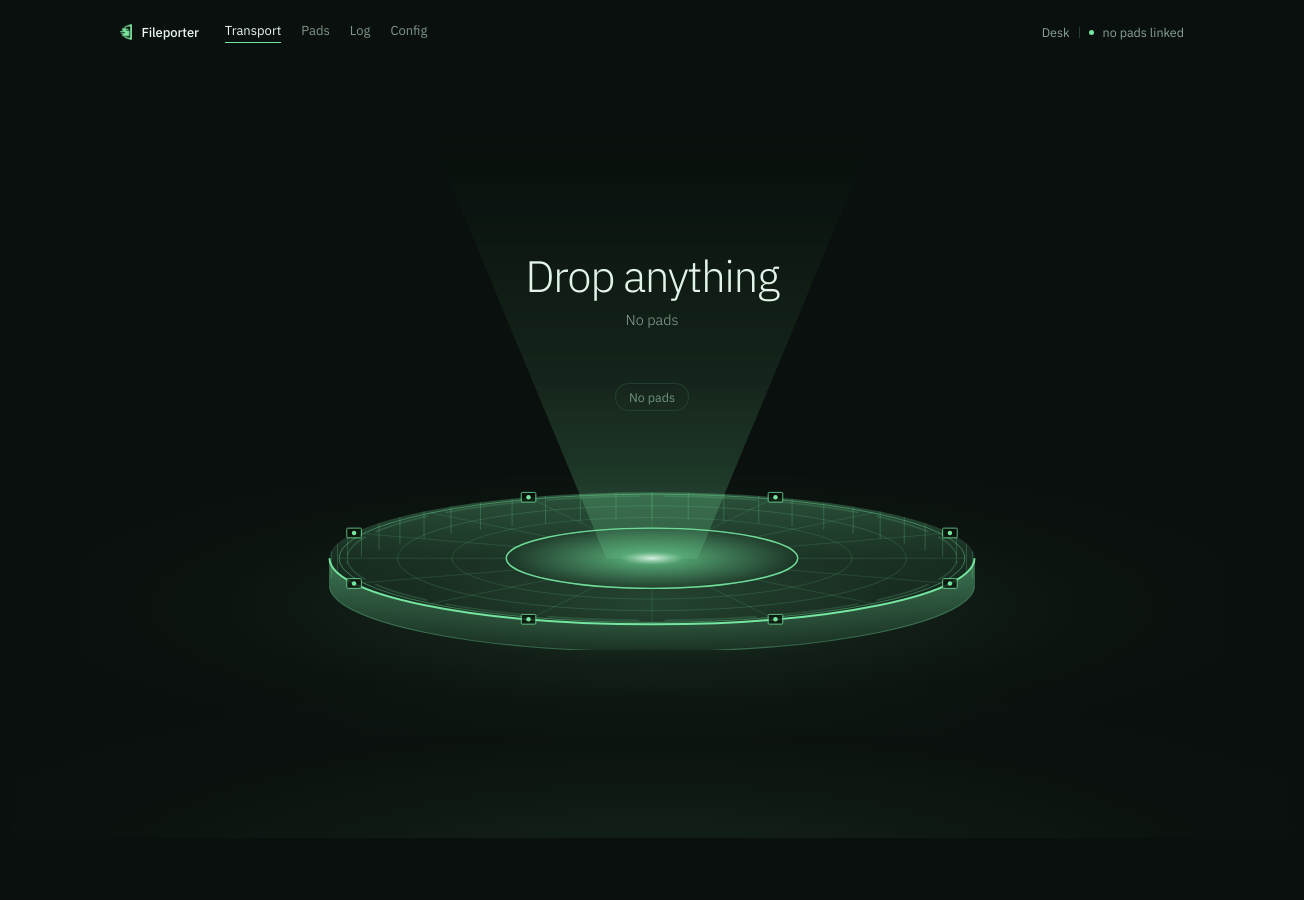
Test: navigates the browse menu with arrows and restores focus without opening a picker
Click the button named "Send files or folders".
click(652, 451)  # box [12,64,1292,838]
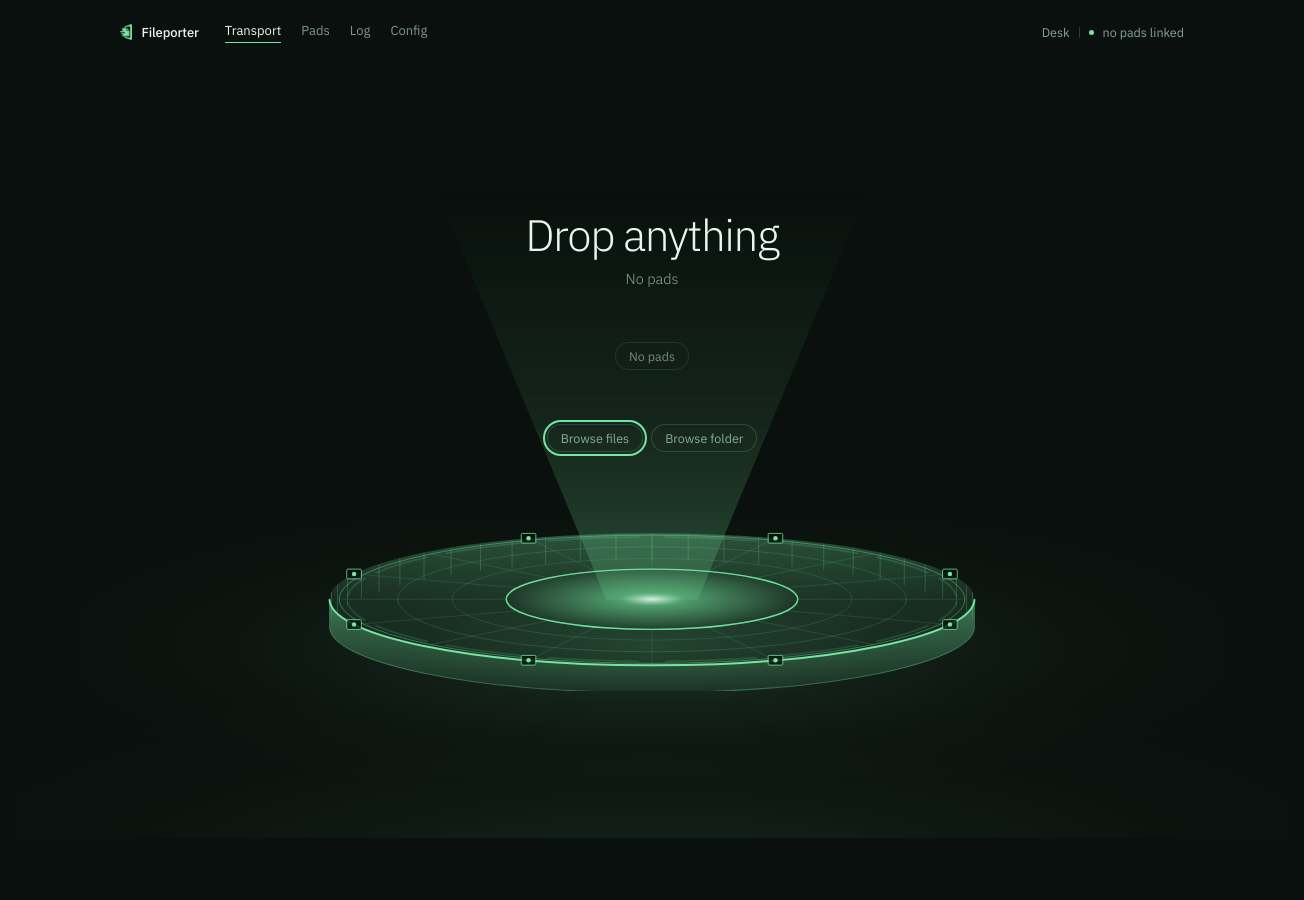
Press ArrowUp in the menu item "Browse files", box [547,424,643,452]
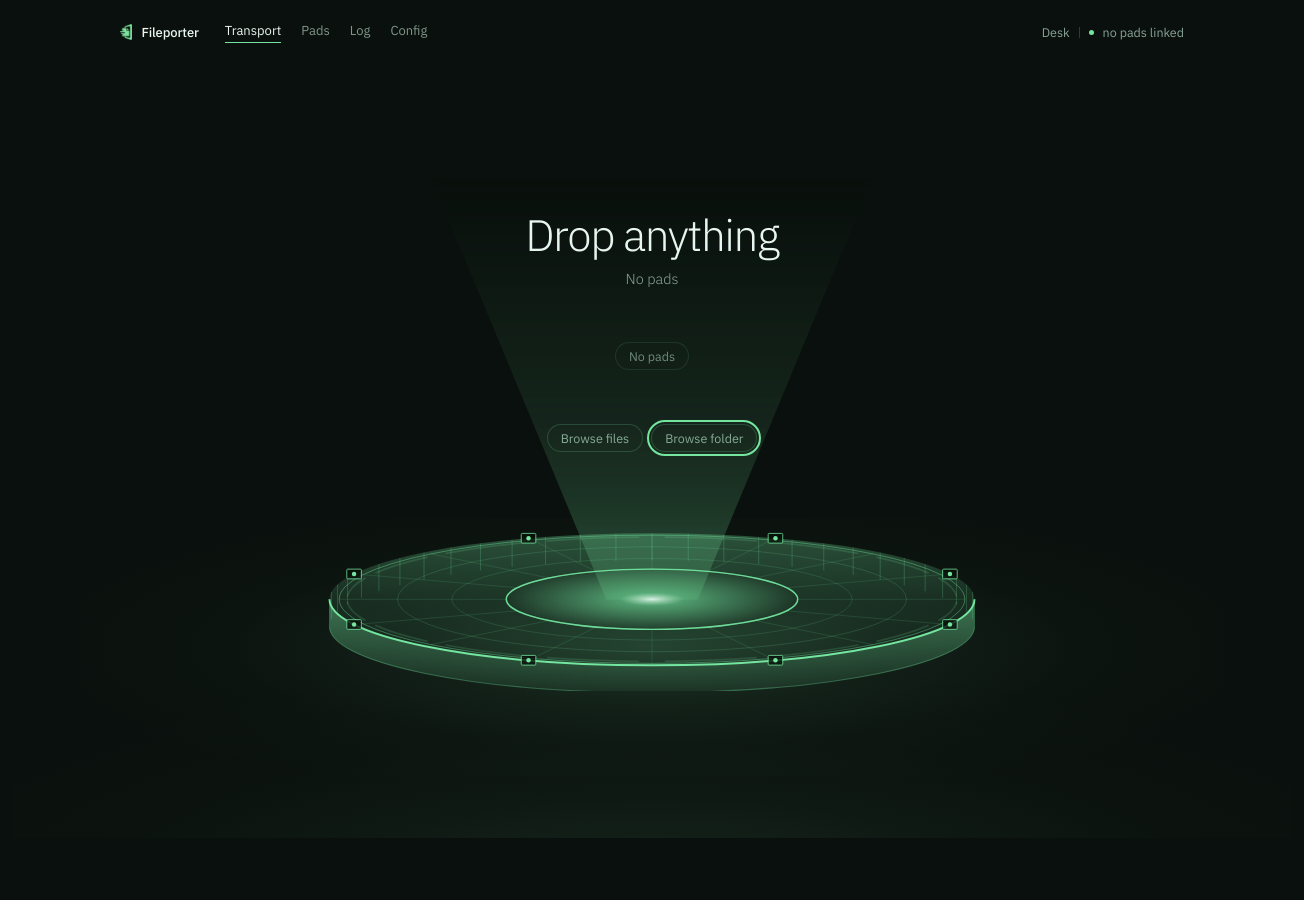
Press ArrowDown in the menu item "Browse folder", box [651,424,757,452]
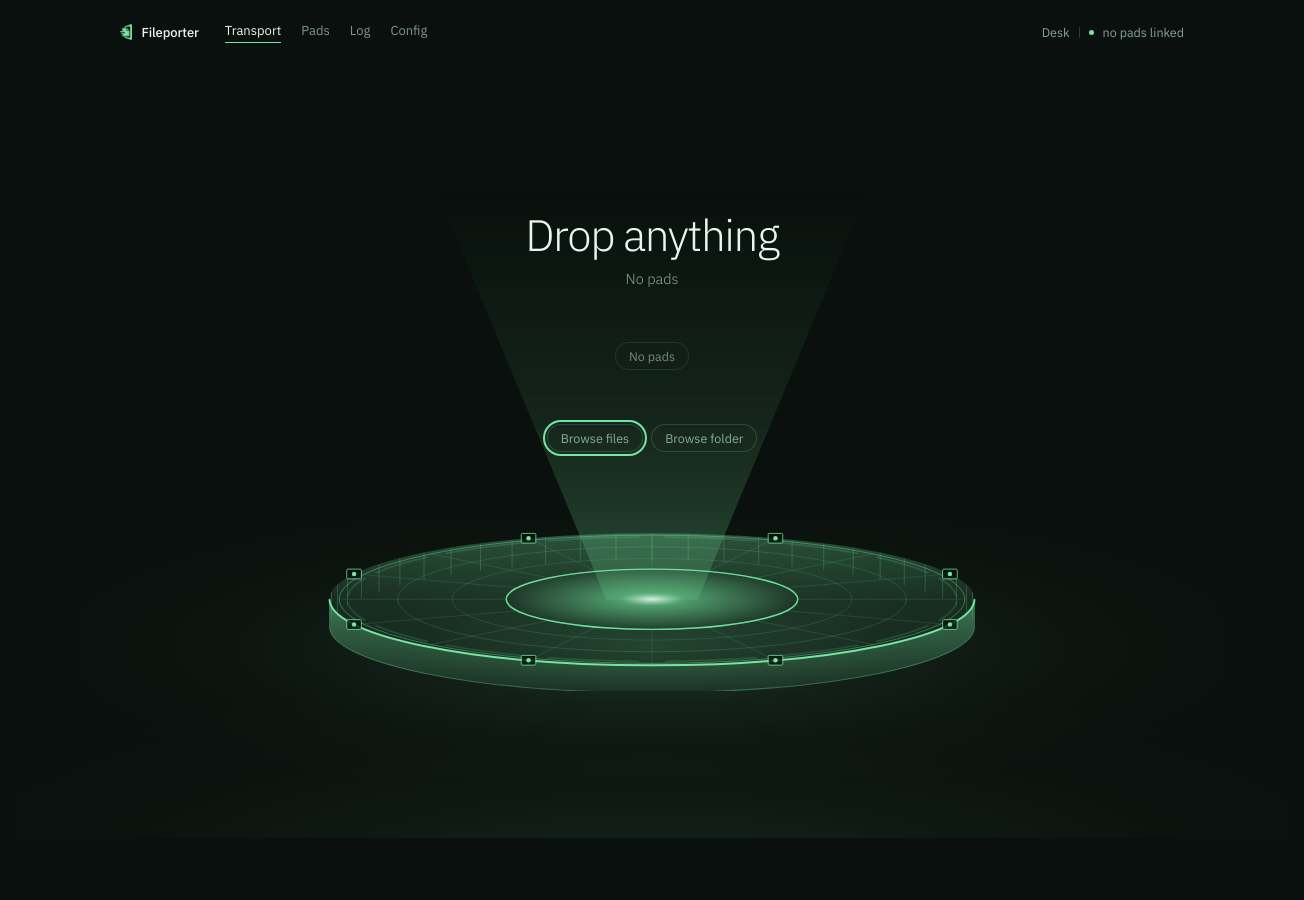
Press End in the menu item "Browse files", box [547,424,643,452]
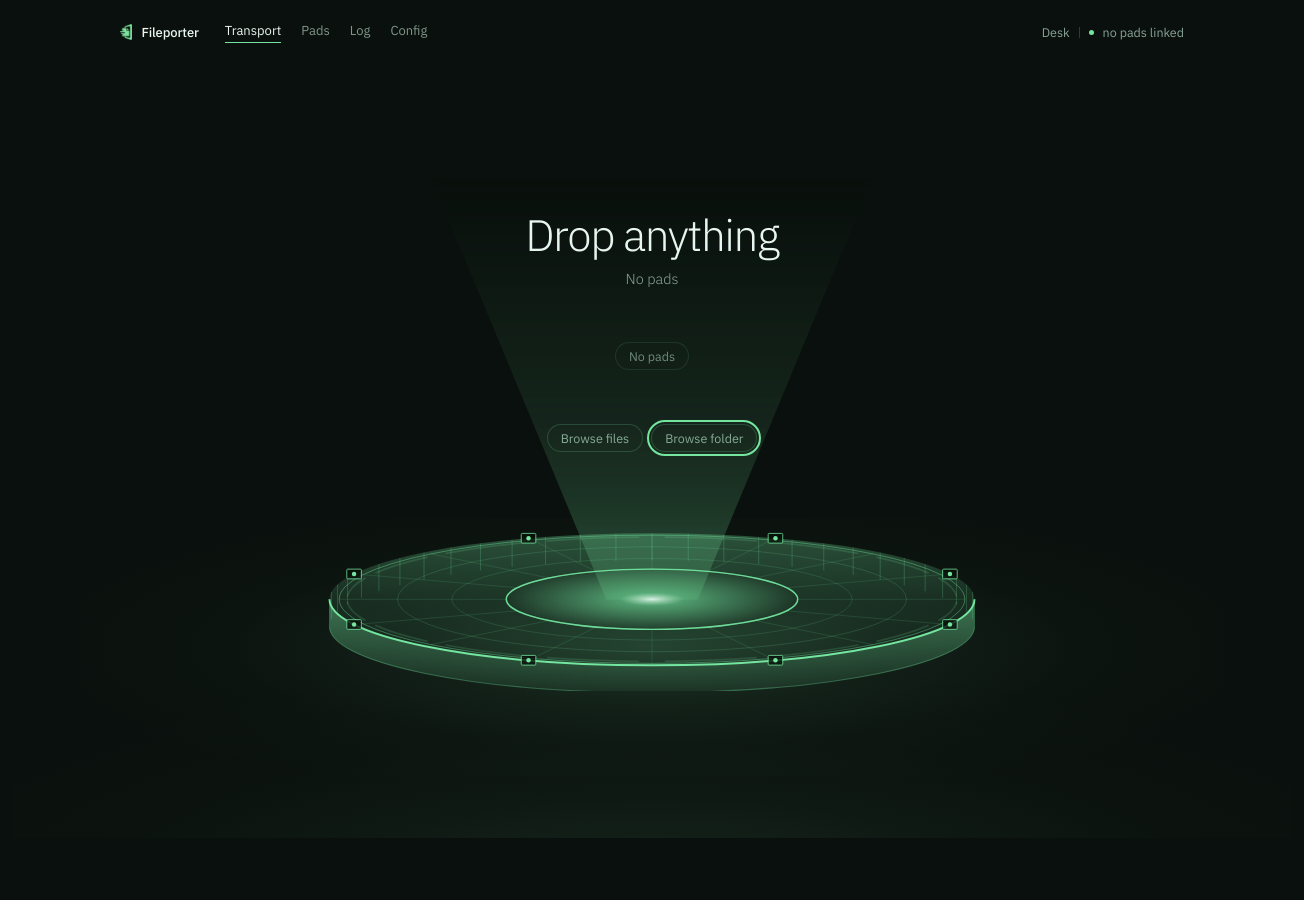
Press Home in the menu item "Browse folder", box [651,424,757,452]
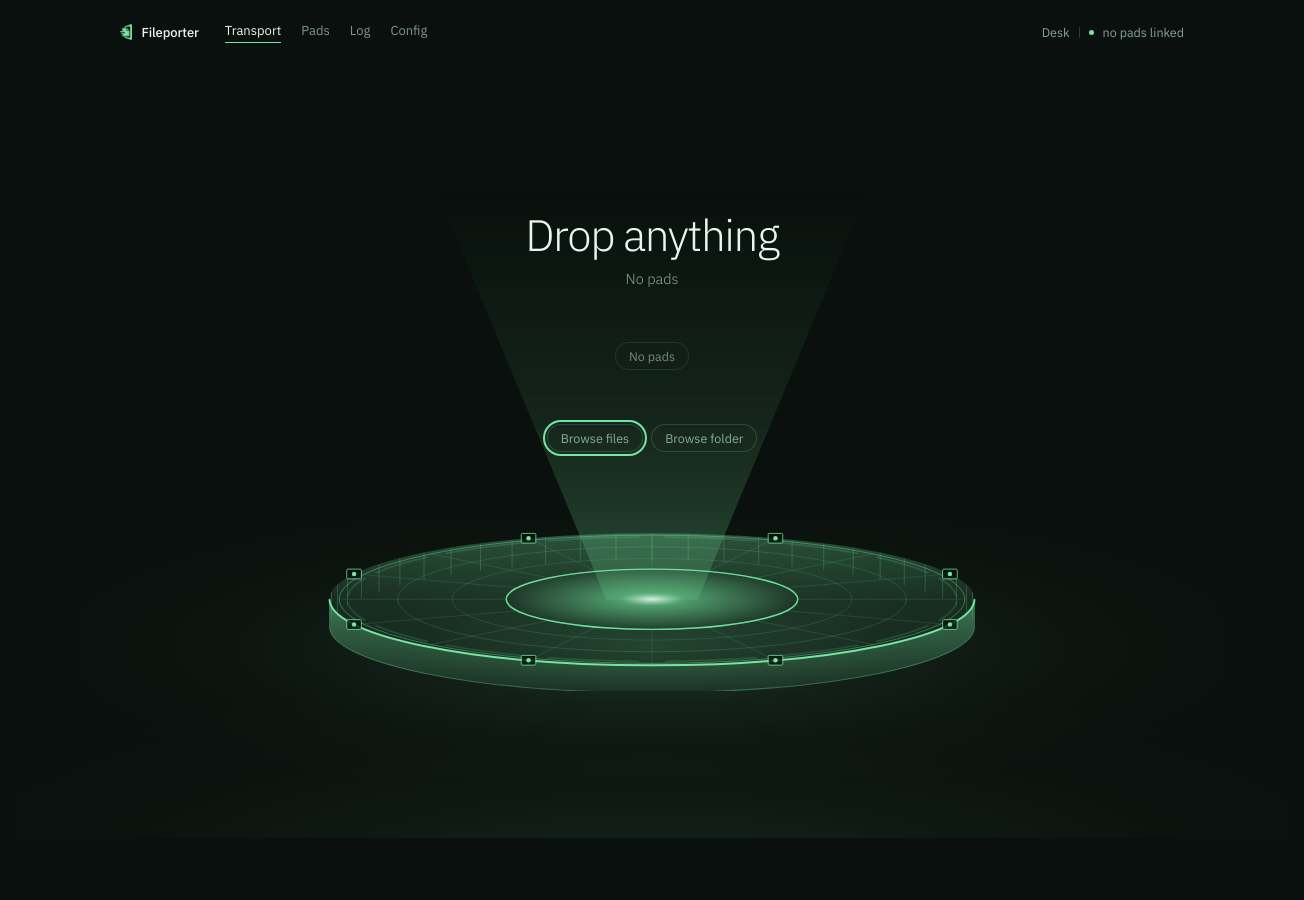
Press Escape in the menu item "Browse files", box [547,424,643,452]
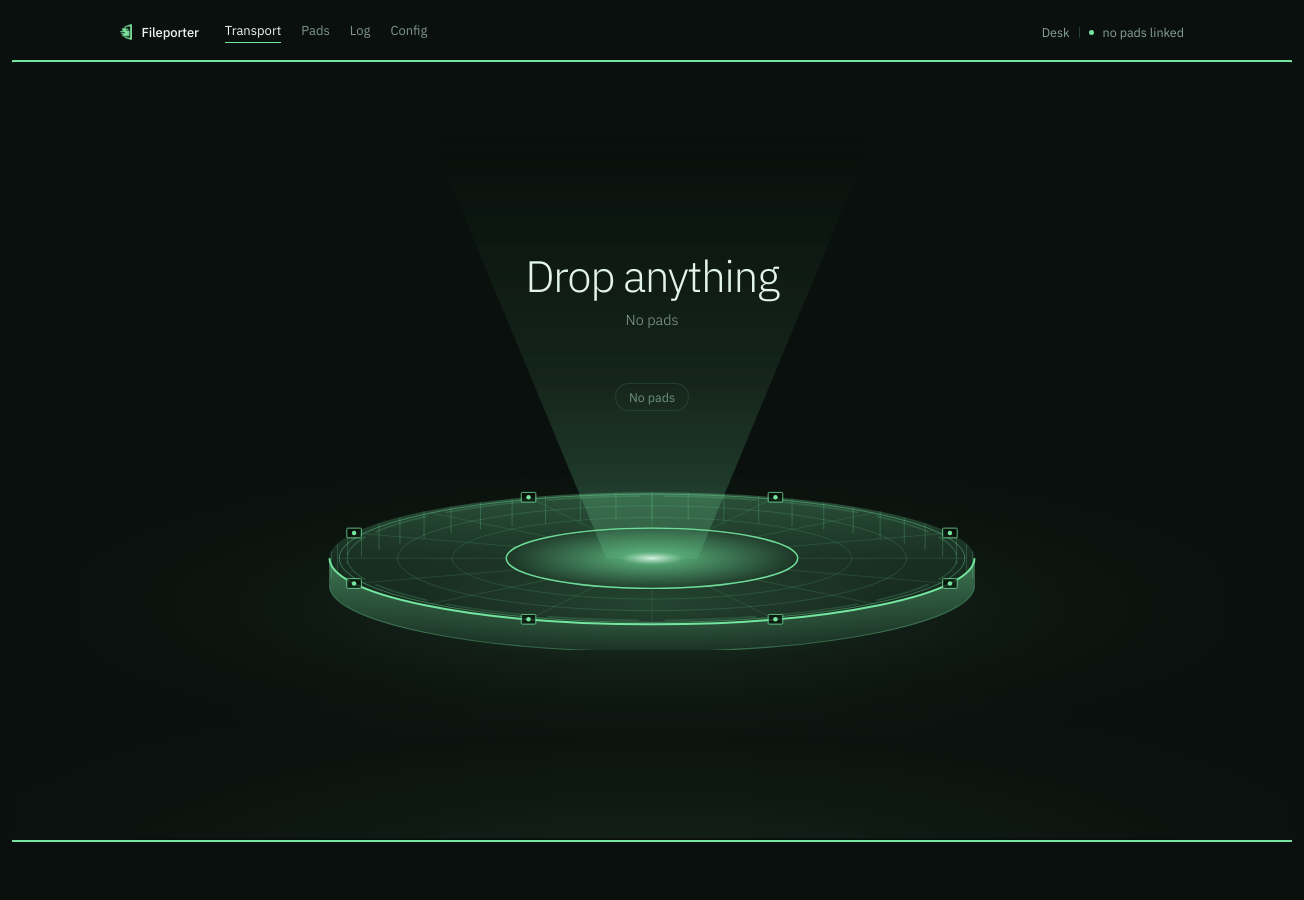
Expected: the menu is gone
Expected: the button named "Send files or folders" is collapsed
